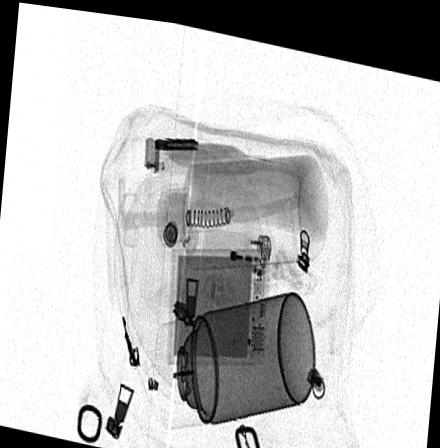Lighter: (186, 225, 273, 265)
Powerbank: (168, 241, 270, 360)
Sprayer: (154, 282, 315, 426)
